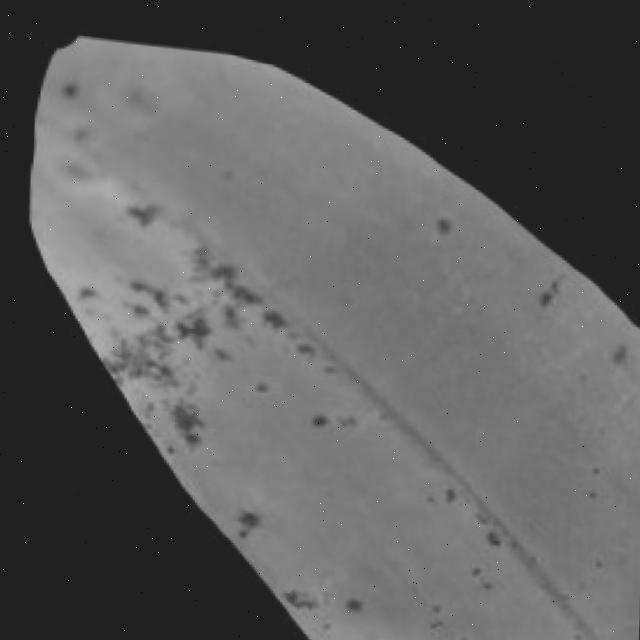mite: (303, 401, 331, 431), (233, 504, 256, 526), (60, 77, 80, 98), (305, 406, 325, 425), (440, 478, 455, 497)
spots: (12, 28, 640, 640)
